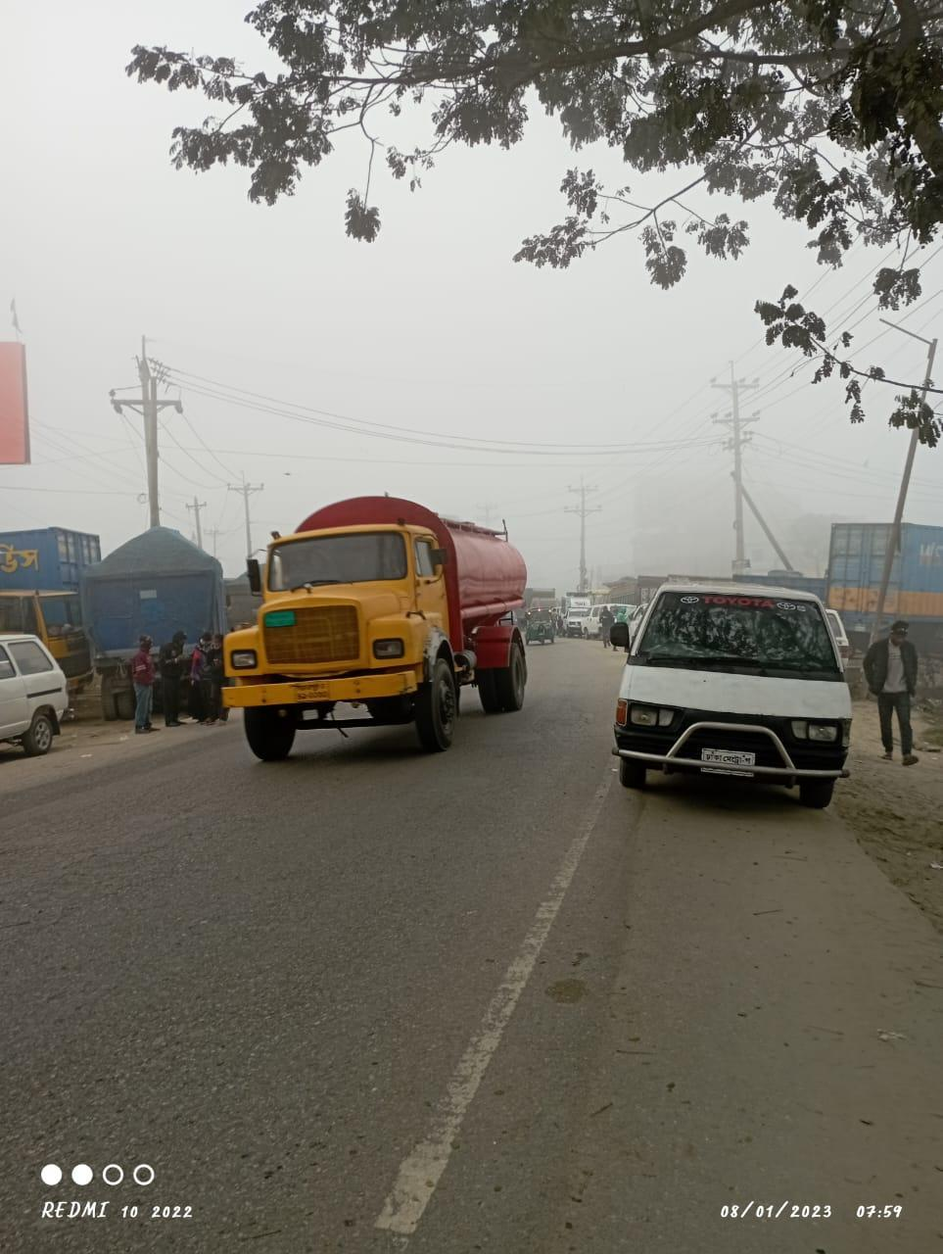Car: (600, 565, 867, 824), (5, 624, 83, 765)
Truck: (210, 486, 535, 740), (71, 524, 224, 716)
